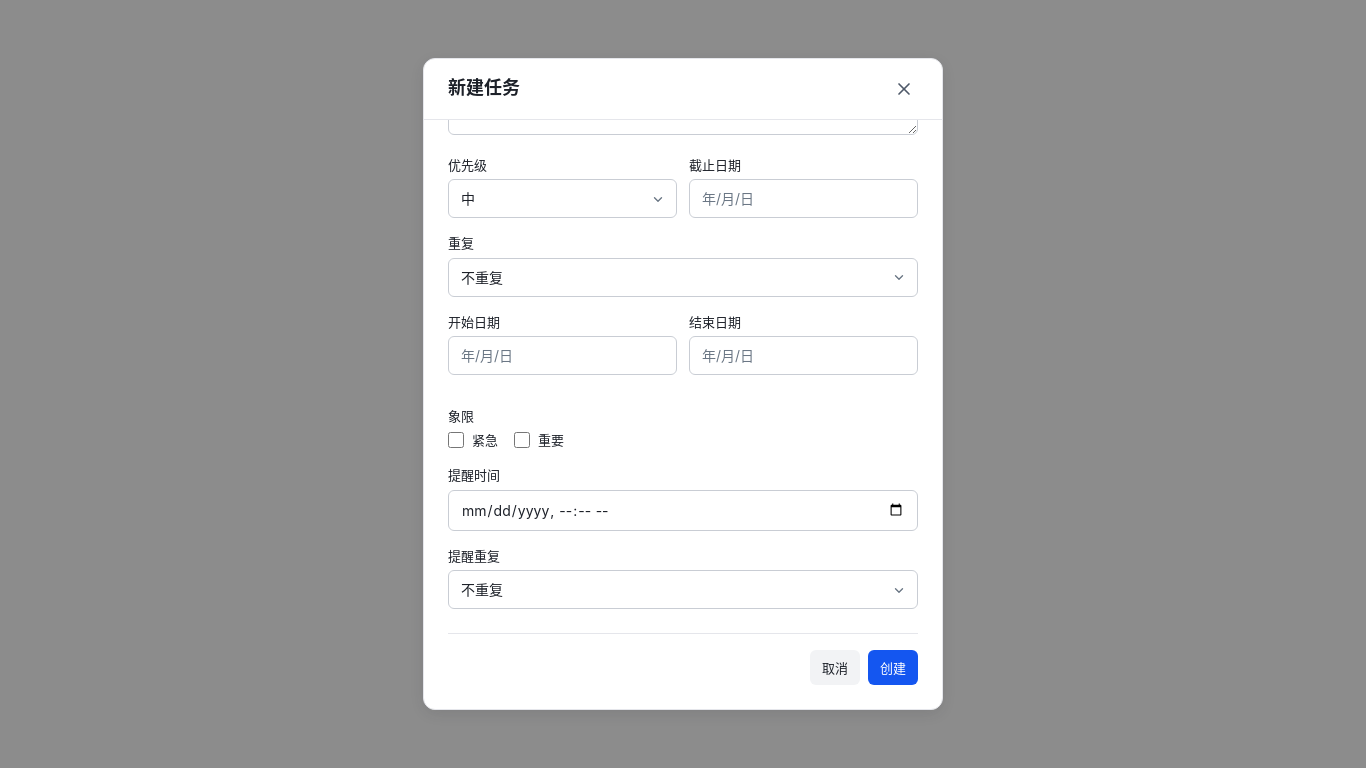
Test: TaskForm › reminder rule controls › shows the interval input only for everyN cadence
This screenshot has width=1366, height=768.
(page scrolled)
Select "每 N 天" in the dropdown with test id "task-form-reminder-recurrence" at (683, 590), box x1=448 y1=570 x2=918 y2=609
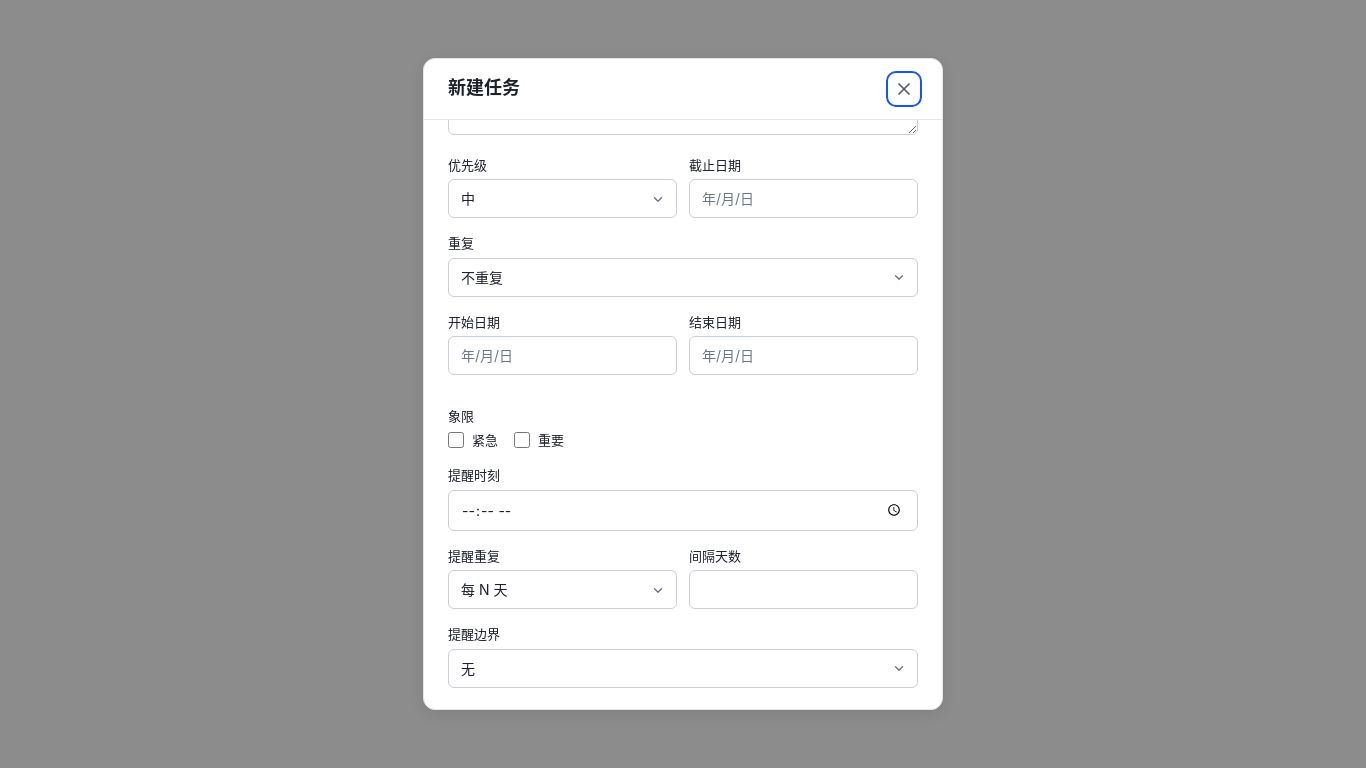
Result: the number field with test id "task-form-reminder-interval" is shown at x1=689 y1=570 x2=918 y2=609
